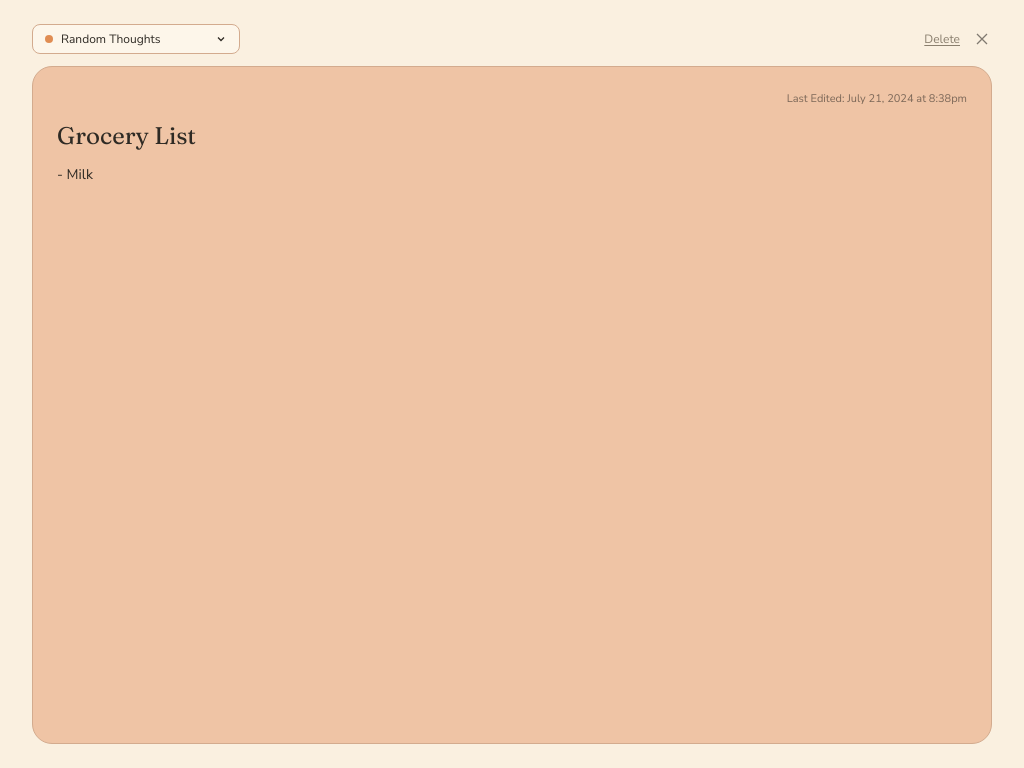
autosave › retimes Last Edited from the server's answer, not the local clock
This screenshot has width=1024, height=768.
Replace the text in the field named "Note Title" with "Renamed": (512, 136) 57,120 -> 967,152
Wait 800 ms
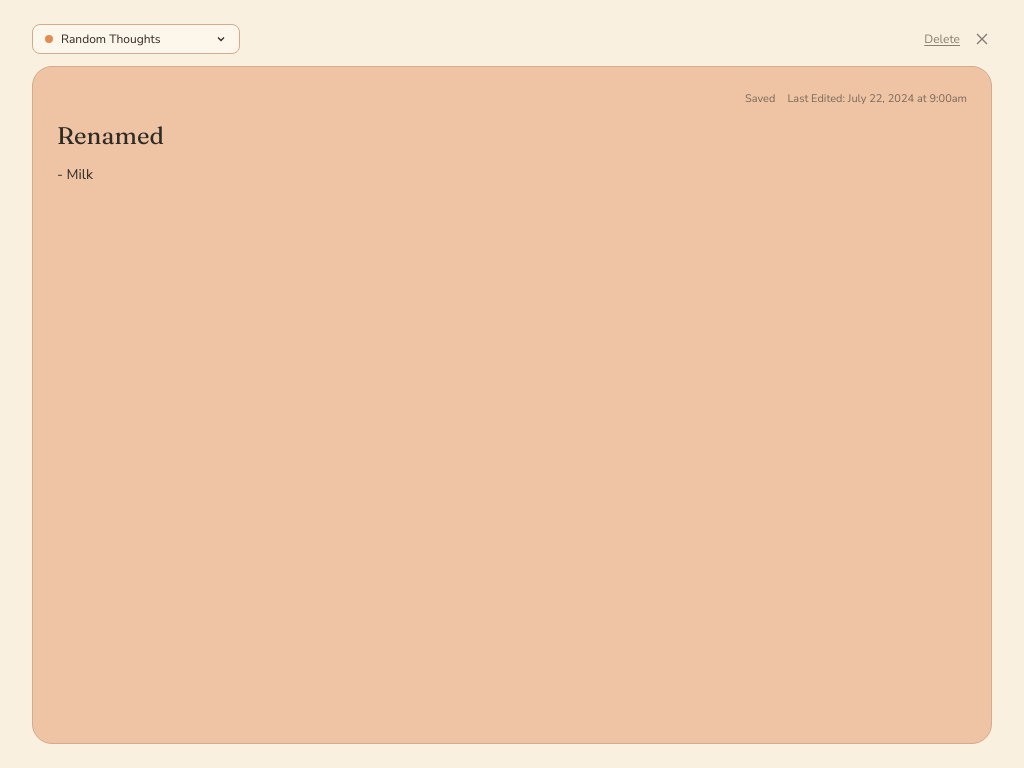
Check: the text "Last Edited: July 22, 2024 at 9:00am" is shown, box 787,91 -> 967,108
